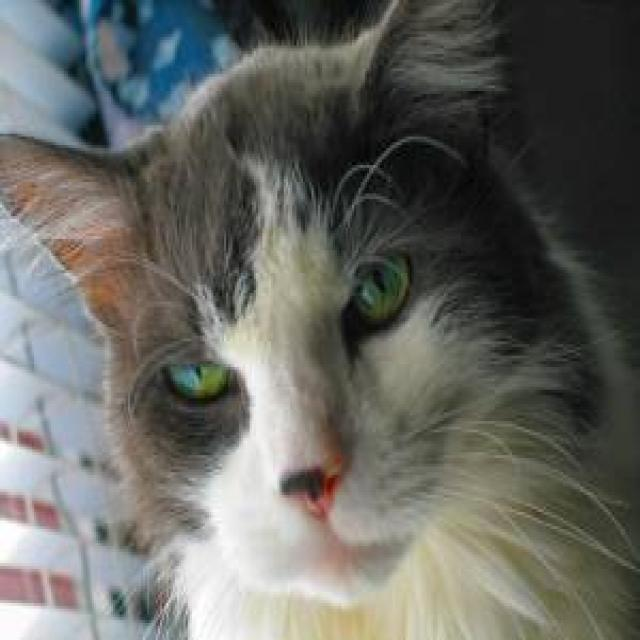Maine_Coon: (0, 0, 563, 609)
